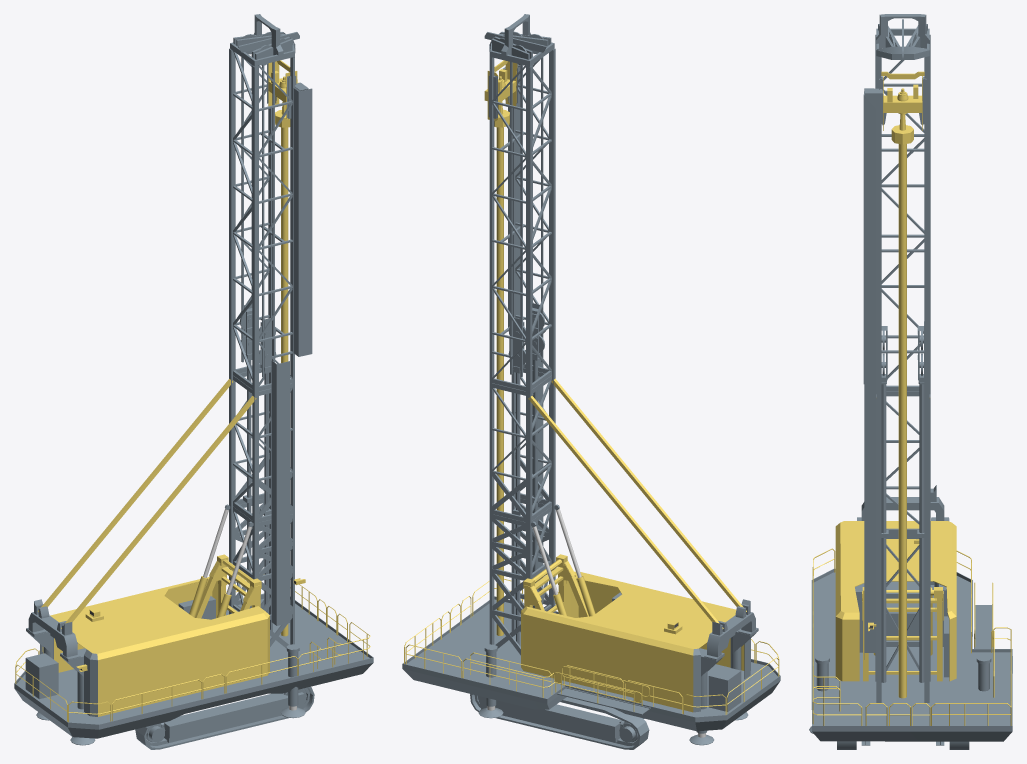
The model's file is PitViper_driverless_5k_v.gltf.
3 renders of one model, left to right at view 1: azimuth 30°, elevation 25°; view 2: azimuth 150°, elevation 25°; view 3: azimuth 270°, elevation 25°, orthographic. The views are drawn at different scales.
Parts seen in each view (by area): view 1: PitViper_driverless; view 2: PitViper_driverless; view 3: PitViper_driverless.
Part boxes in pixels (x1,y1,x2,y2): PitViper_driverless: (14,14,373,749); PitViper_driverless: (402,14,780,749); PitViper_driverless: (809,14,1012,749).
Size of the model in its own units: 11.3 by 24.51 by 6.19.
